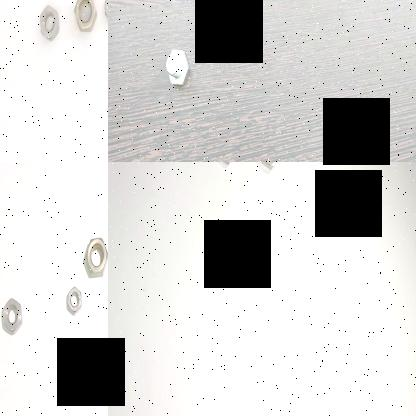Bolts: (162, 43, 188, 93)
NUTS: (81, 226, 108, 280), (0, 290, 25, 339), (33, 0, 60, 42), (72, 0, 96, 36), (62, 286, 82, 314), (101, 0, 108, 26)
